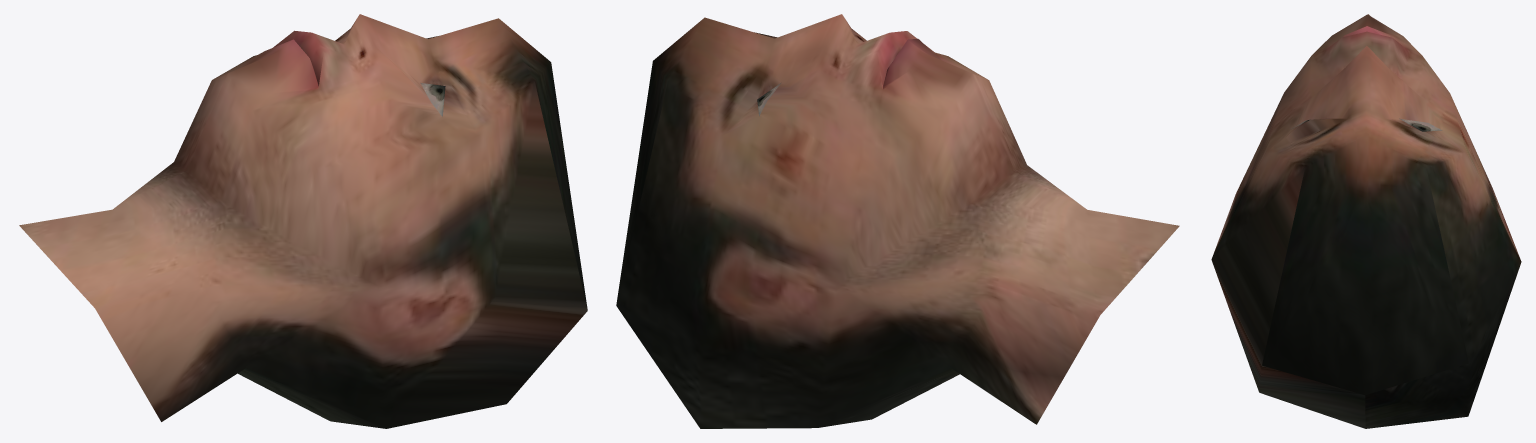
Rendered from head_british_chance_low.glb.
The picture shows the model from 3 angles, left to right: view 1: azimuth 30°, elevation 25°; view 2: azimuth 150°, elevation 25°; view 3: azimuth 270°, elevation 25°; orthographic projection. The views are drawn at different scales.
Size of the model in its own units: 13.45 by 9.42 by 7.72.
1 material, 1 textured.
